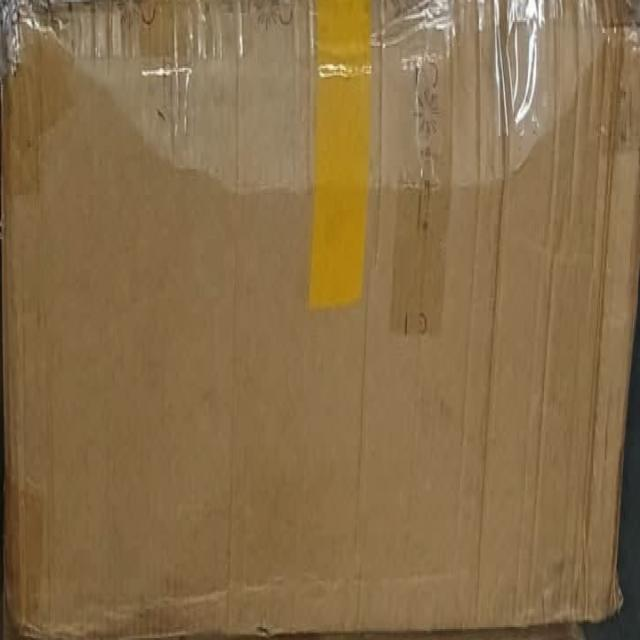carton_box: (0, 0, 640, 640)
package_damage: (0, 0, 42, 83), (608, 521, 630, 626)
